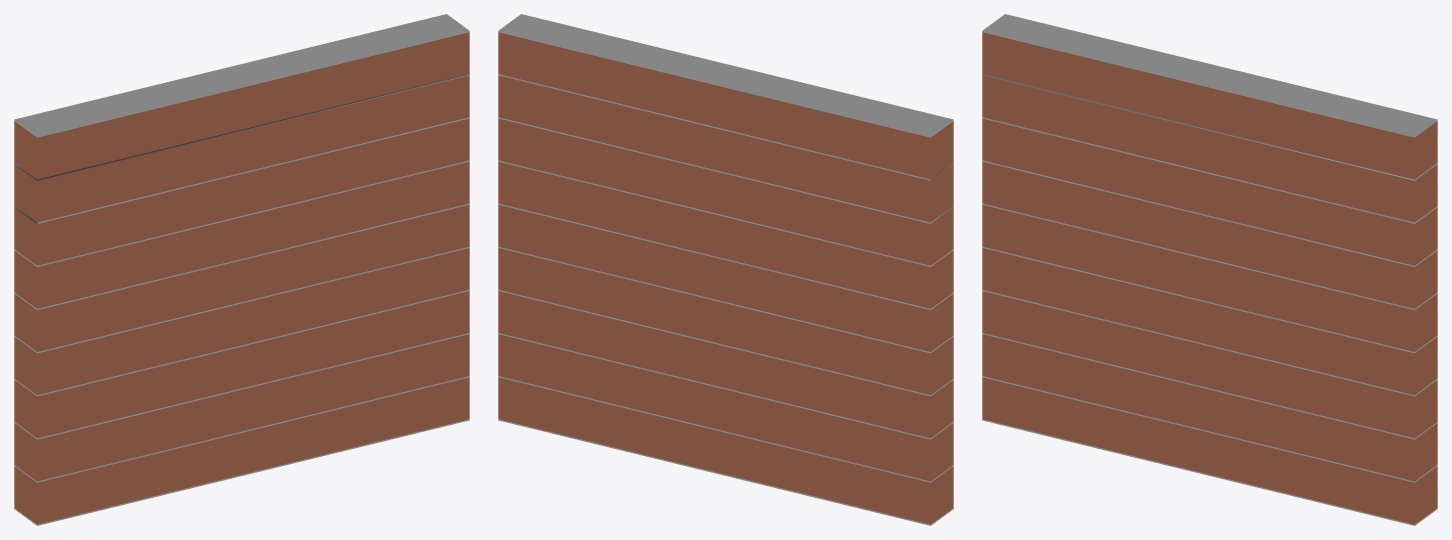
The model's file is wall04.glb.
The picture shows the model from 3 angles, left to right: view 1: azimuth 30°, elevation 25°; view 2: azimuth 150°, elevation 25°; view 3: azimuth 330°, elevation 25°; orthographic projection.
Visible parts, largest first — view 1: Plane.025; view 2: Plane.025; view 3: Plane.025.
Part boxes in pixels (box(x1,y1,x2,y2)): Plane.025: box(14, 14, 469, 525); Plane.025: box(498, 14, 953, 525); Plane.025: box(982, 14, 1437, 525).
Bounding box in the file's own units: 3.25 × 2.8 × 0.3.
